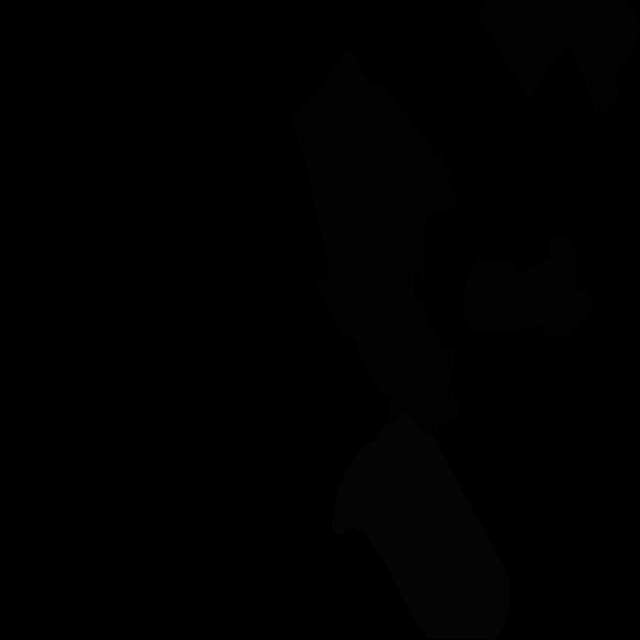cardboard: (287, 48, 458, 400), (480, 0, 640, 116), (462, 236, 594, 337), (388, 348, 454, 435), (427, 389, 459, 425)
soft_plastic: (332, 410, 511, 640)
